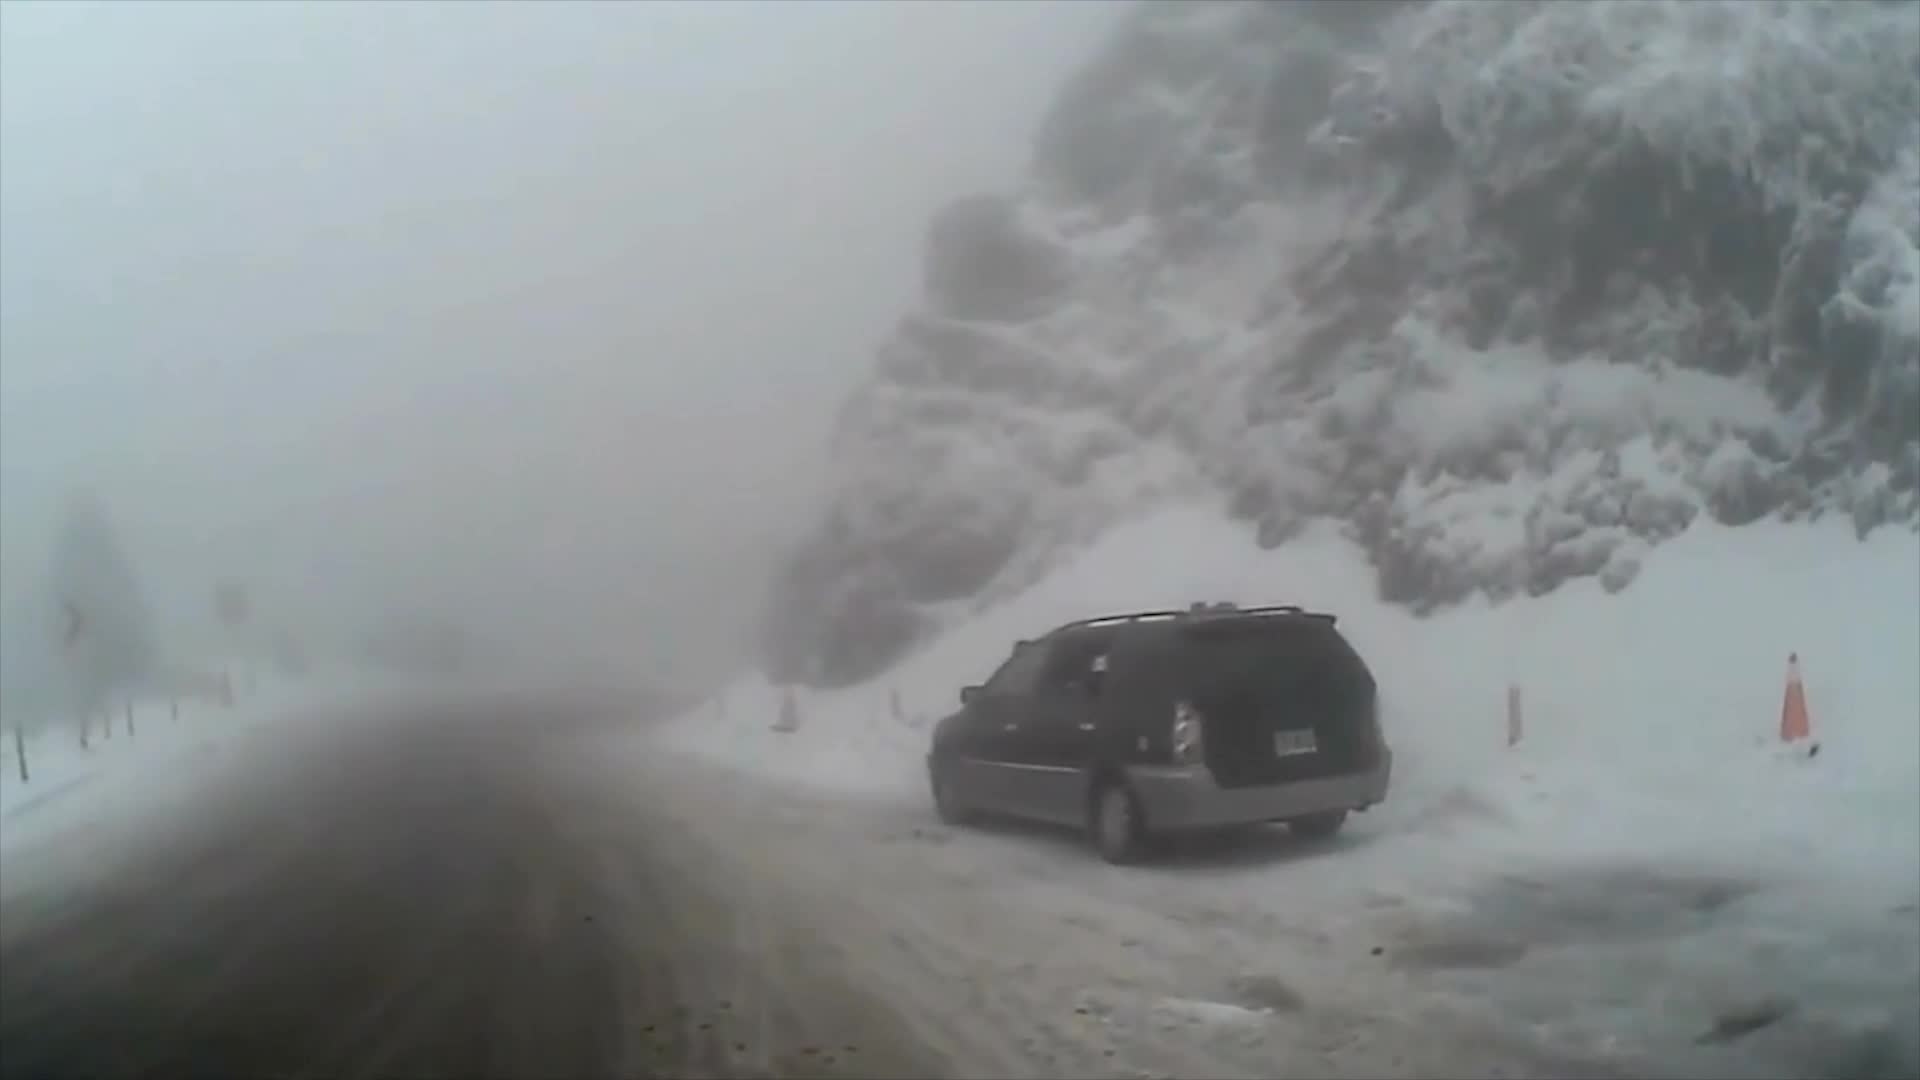vehicle: (924, 600, 1396, 864)
